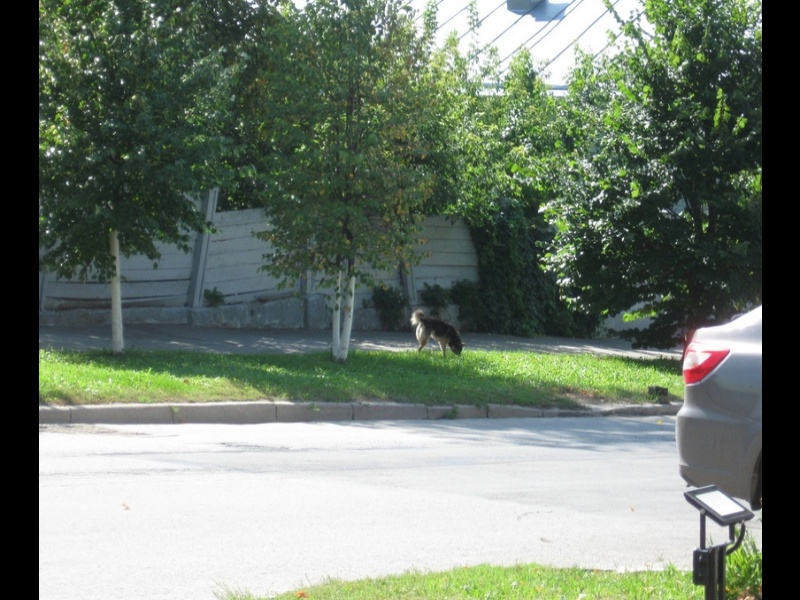dog: (407, 304, 469, 363)
